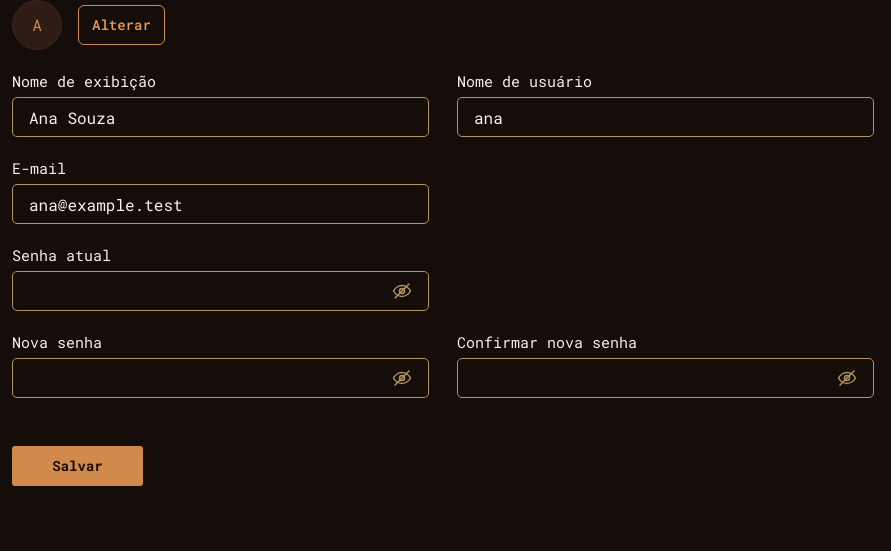
it: ProfileEditor (pt-BR) › validacao no submit: erro associado, aria-invalid e foco no primeiro invalido
The image size is (891, 551).
Clear the field labelled "Nome de exibição" at (220, 117), box [29, 106, 412, 128]
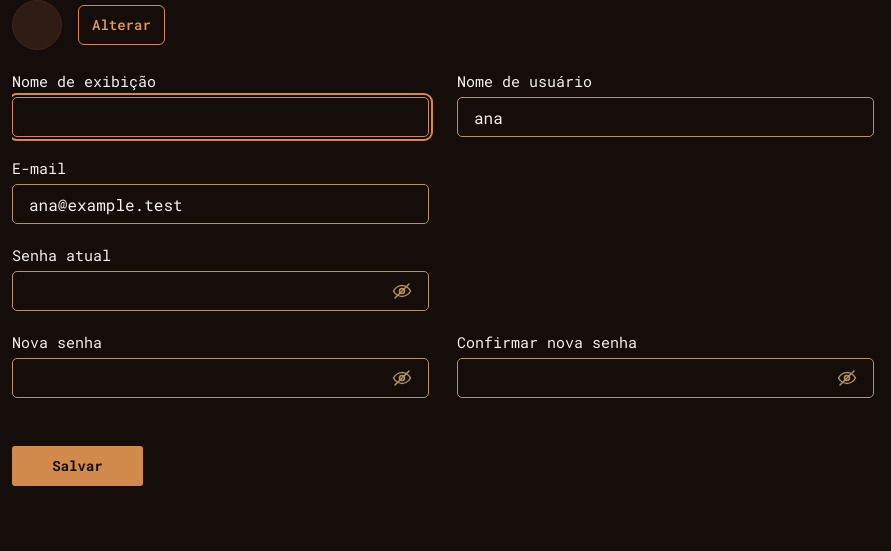
Replace the text in the field labelled "E-mail" with "x" at (220, 204), box [29, 194, 412, 214]
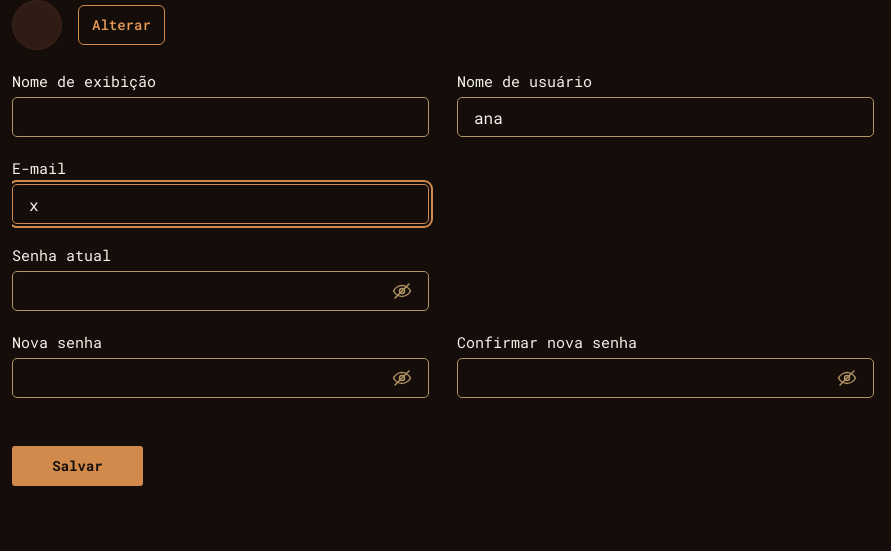
Click the button "Salvar".
click(78, 466)  # box [12, 446, 143, 486]
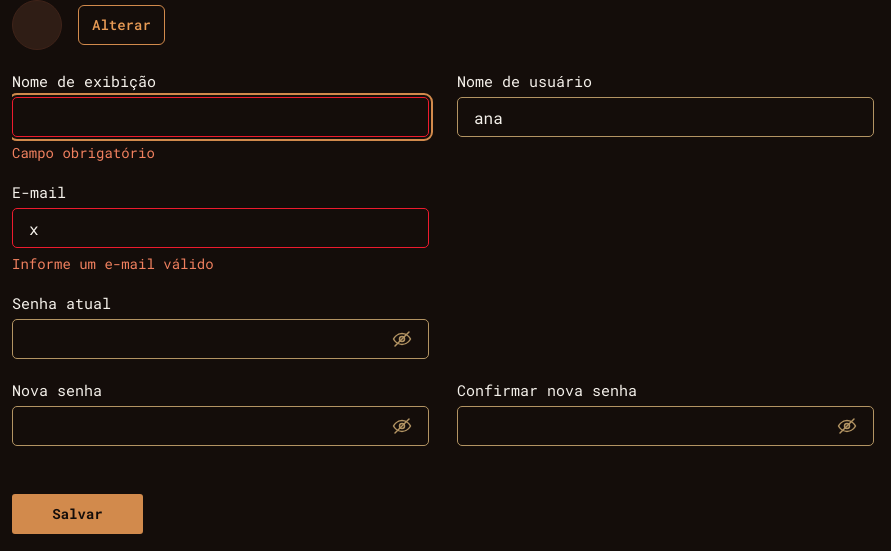
expect the text "Campo obrigatório" is shown: met, box [12, 143, 155, 162]
expect the text "Informe um e-mail válido" is shown: met, box [12, 254, 214, 273]
